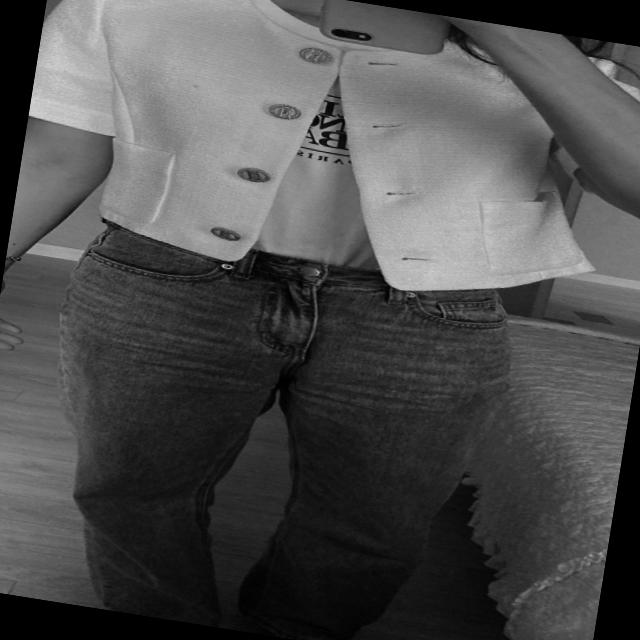blazer: (10, 0, 640, 329)
denimpants: (12, 211, 520, 640)
